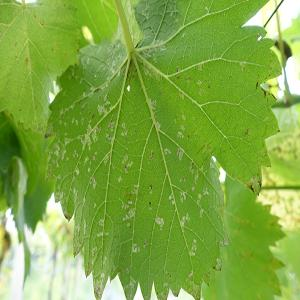Folha: (40, 0, 282, 300)
Fungo: (92, 220, 112, 298), (45, 123, 70, 182), (73, 188, 88, 258), (109, 38, 126, 80), (144, 35, 167, 66), (181, 268, 203, 300), (119, 188, 135, 231), (54, 184, 72, 221), (81, 124, 103, 150), (194, 187, 211, 218), (127, 58, 139, 85), (98, 95, 114, 115), (124, 274, 136, 300), (156, 278, 169, 300), (249, 173, 261, 195), (122, 155, 136, 173), (119, 120, 130, 142), (180, 212, 189, 231), (189, 238, 197, 256), (148, 97, 157, 113), (212, 257, 222, 271), (155, 216, 164, 230), (130, 244, 140, 256), (89, 175, 97, 189), (175, 147, 183, 160), (148, 150, 154, 164), (242, 127, 250, 137), (184, 72, 192, 82), (179, 192, 187, 202), (104, 153, 109, 168), (189, 159, 194, 173), (154, 120, 160, 131), (143, 238, 147, 248), (148, 201, 152, 210)
